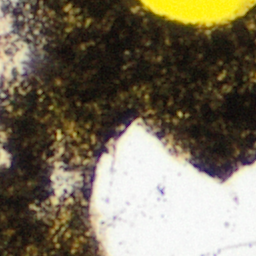air_pores: (138, 0, 255, 27)
cement_matrix: (0, 0, 255, 255), (49, 158, 83, 207)
gravel_crushed_stones: (92, 124, 255, 255), (0, 0, 32, 88), (50, 159, 82, 206), (0, 144, 9, 165), (0, 132, 1, 141)
